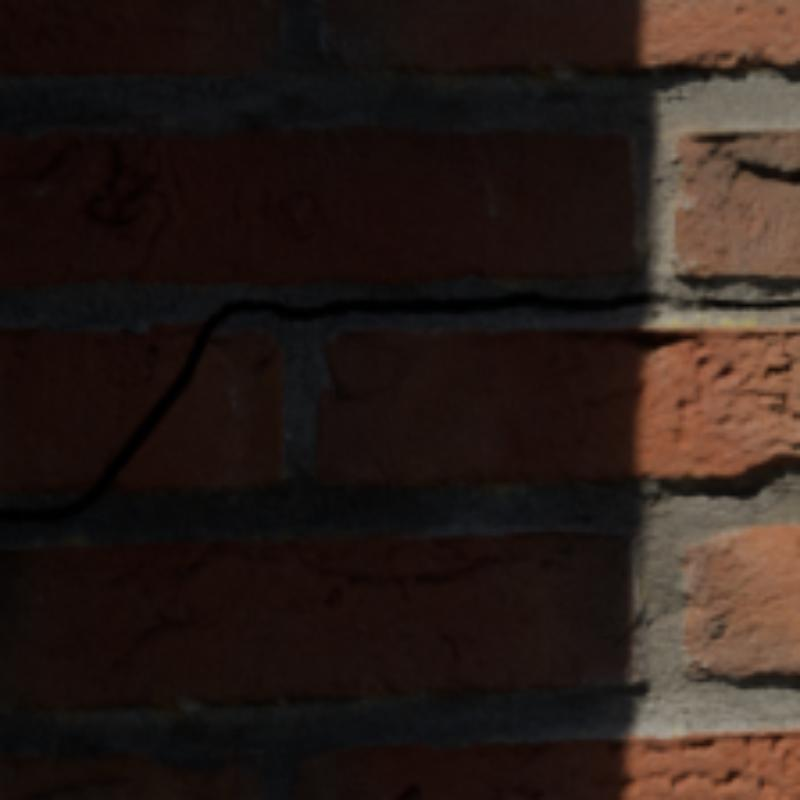crack: (0, 293, 796, 518)
